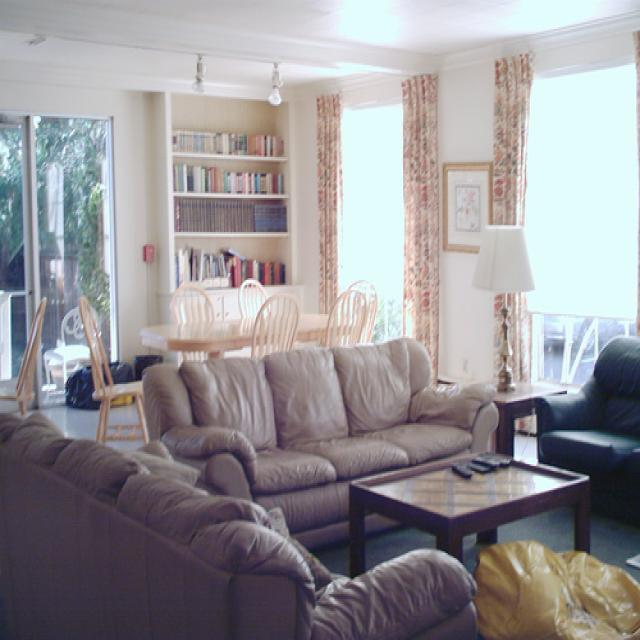chair: (79, 295, 152, 448), (1, 297, 51, 418), (45, 305, 102, 393), (256, 295, 299, 361), (326, 281, 370, 344), (344, 278, 382, 344), (168, 283, 219, 329), (238, 279, 271, 339)
diningtable: (138, 314, 368, 360)
sofa: (1, 411, 480, 639), (145, 339, 501, 547), (537, 336, 640, 522)
